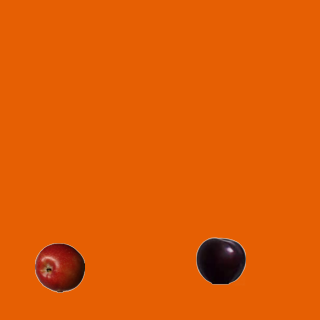Apple Braeburn: (34, 242, 84, 292)
Cherry Wax Black: (195, 235, 245, 285)
